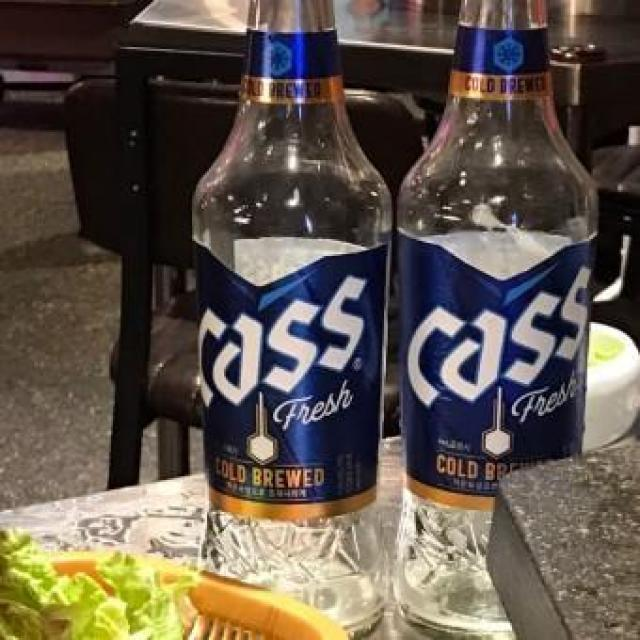beer-bottle: (182, 0, 399, 634), (403, 0, 604, 614)
